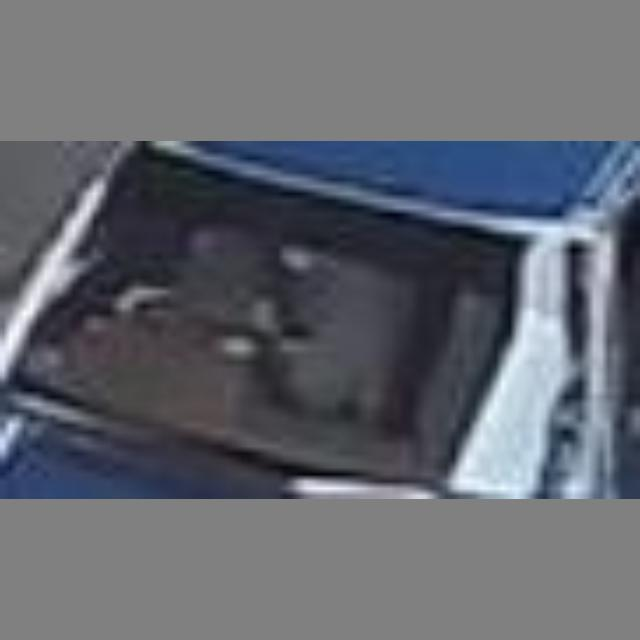pakai: (155, 211, 394, 415)
